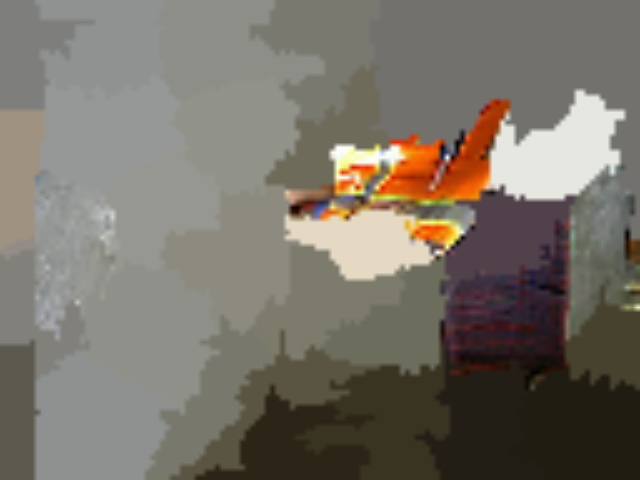two: (532, 84, 576, 136)
